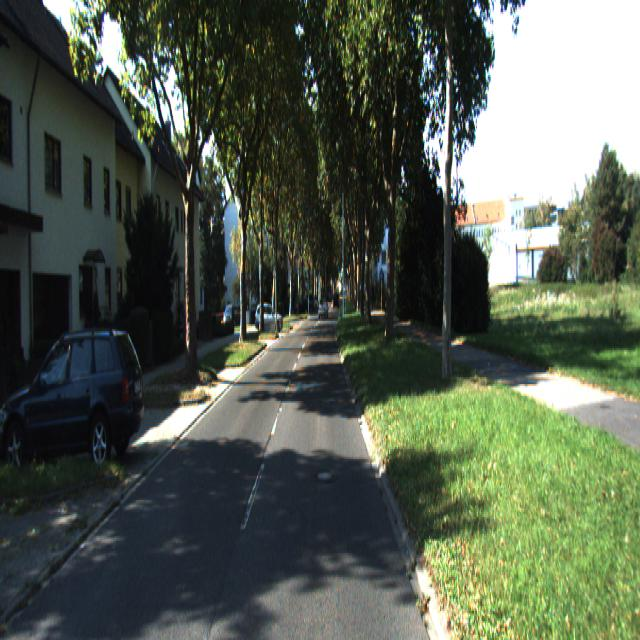Car: (0, 319, 150, 476), (253, 304, 284, 334)
